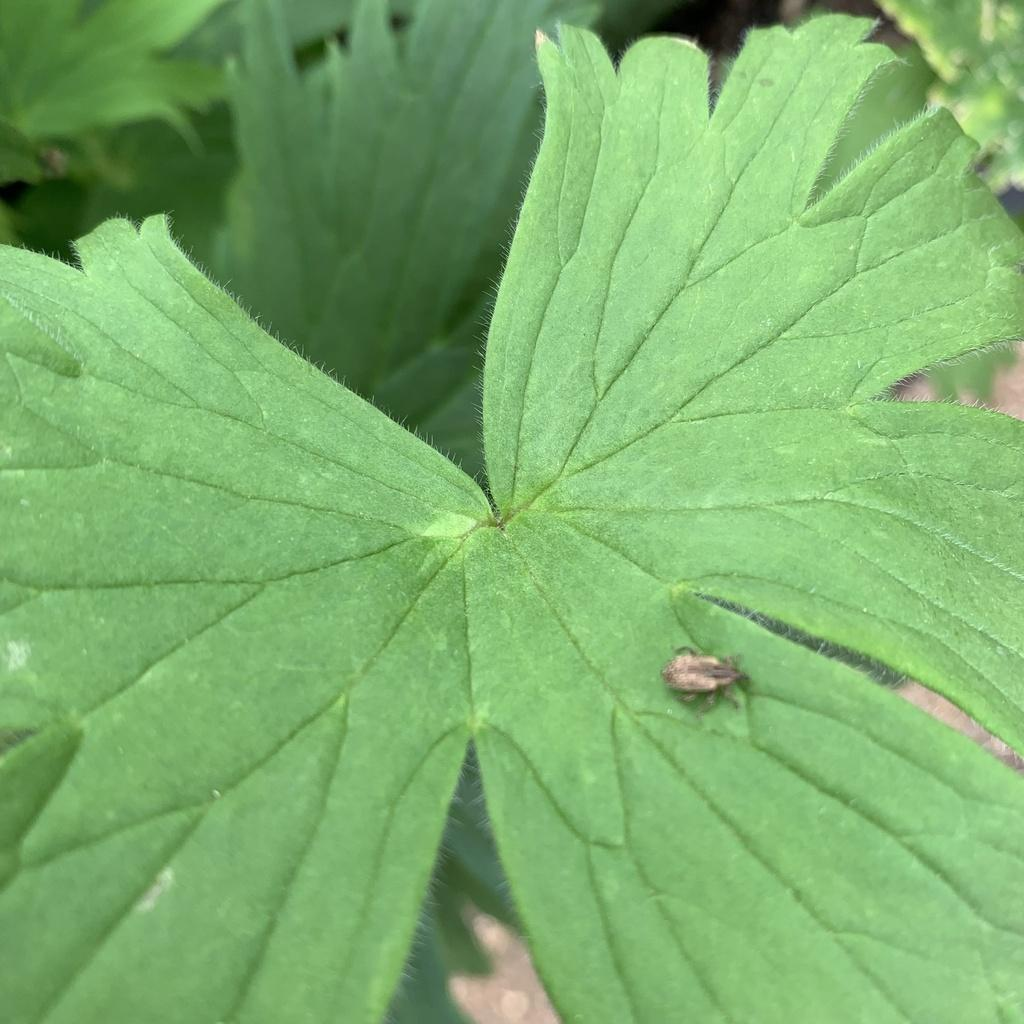weevils: (632, 619, 768, 735)
